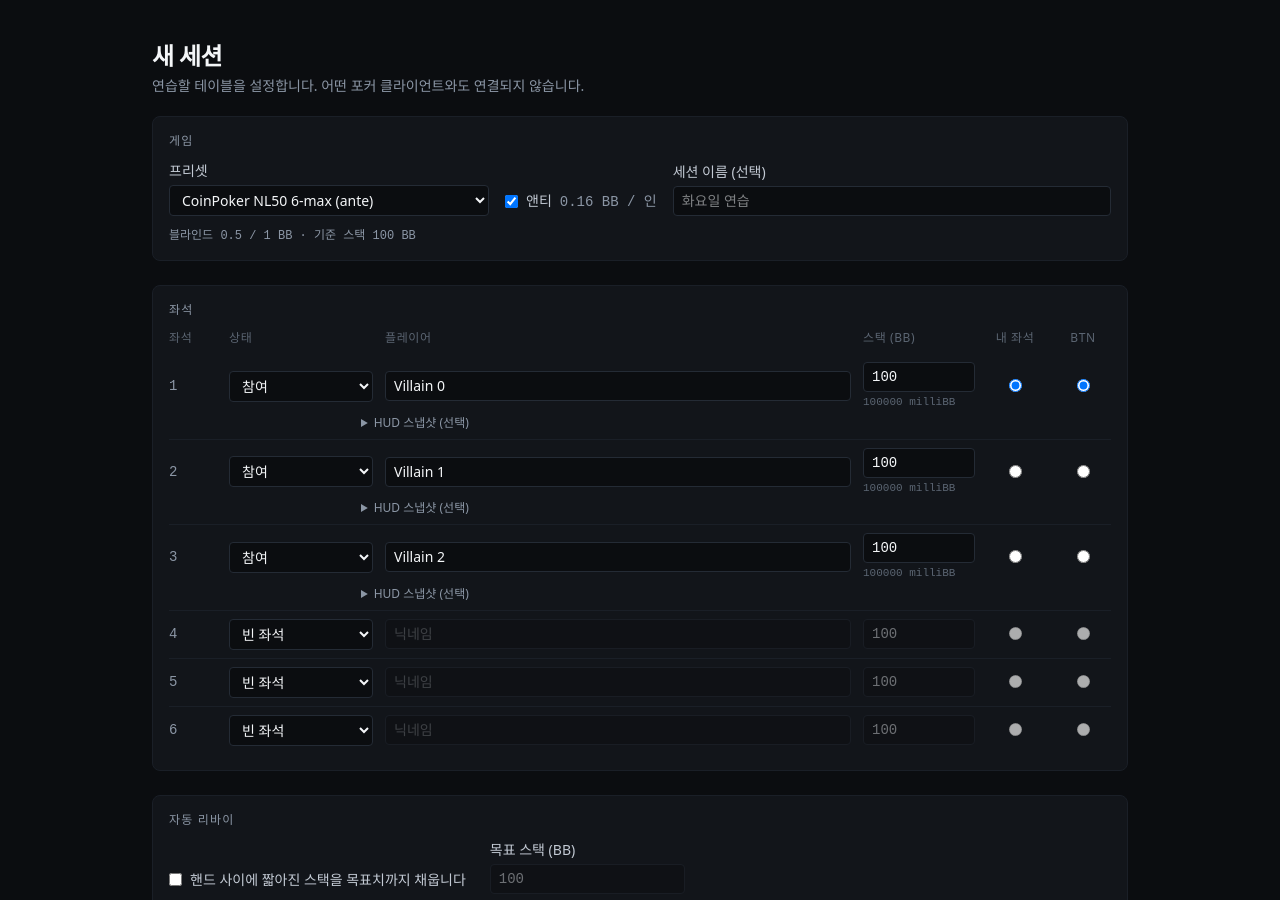
SessionSetupForm › says so when no existing player matches
Type "Someone" into the field named "좌석 3 닉네임" at (618, 557), box [385,542,851,572]
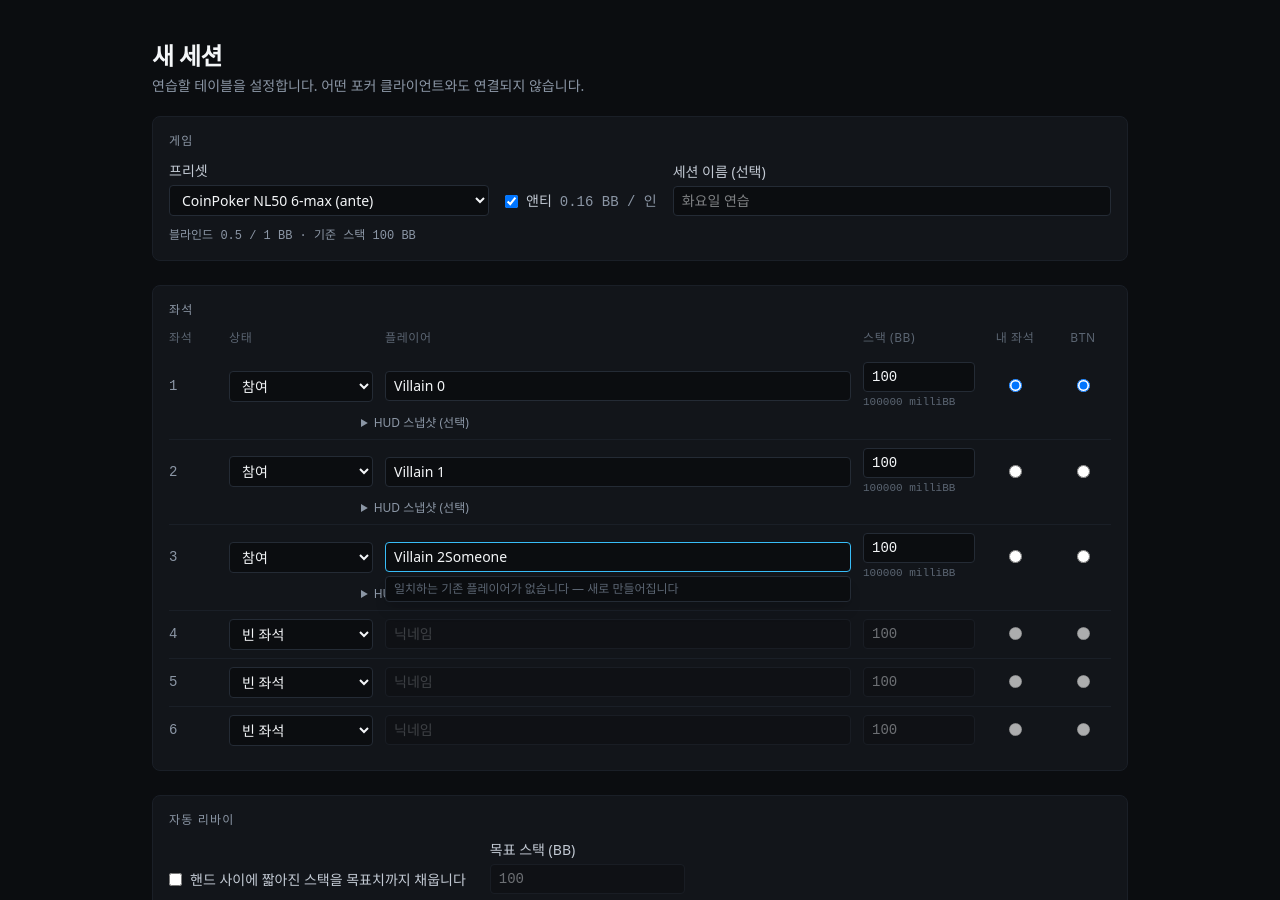
Check: the text "일치하는 기존 플레이어가 없습니다 — 새로 만들어집니다" is shown, box [394,580,679,597]
